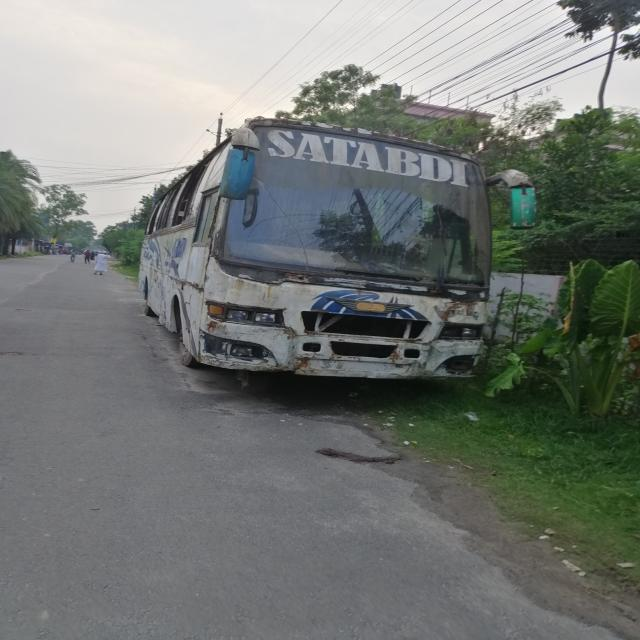Bus: (135, 117, 543, 402)
